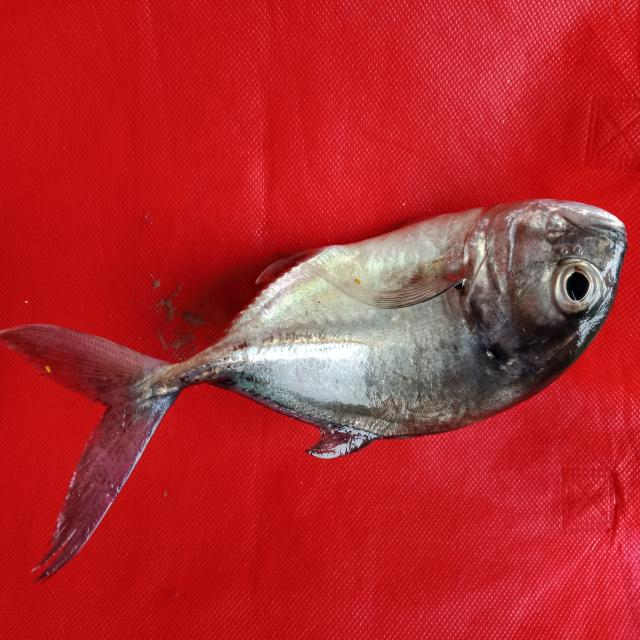ikan: (17, 163, 636, 602)
